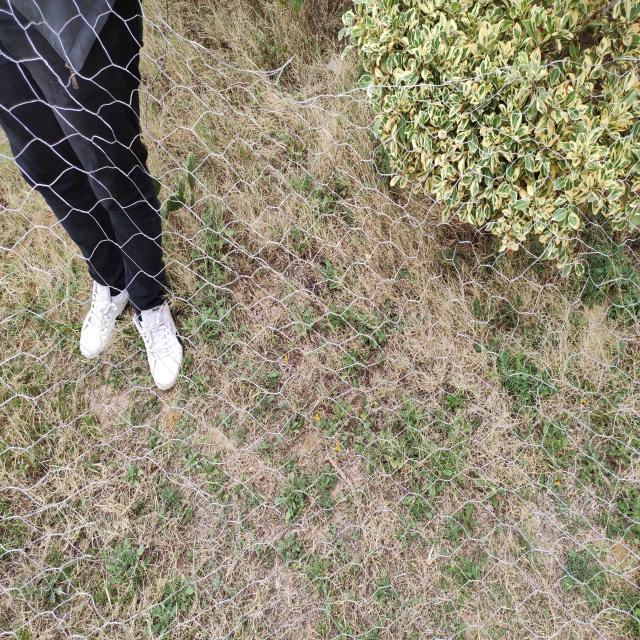fence line: (205, 7, 606, 89)
